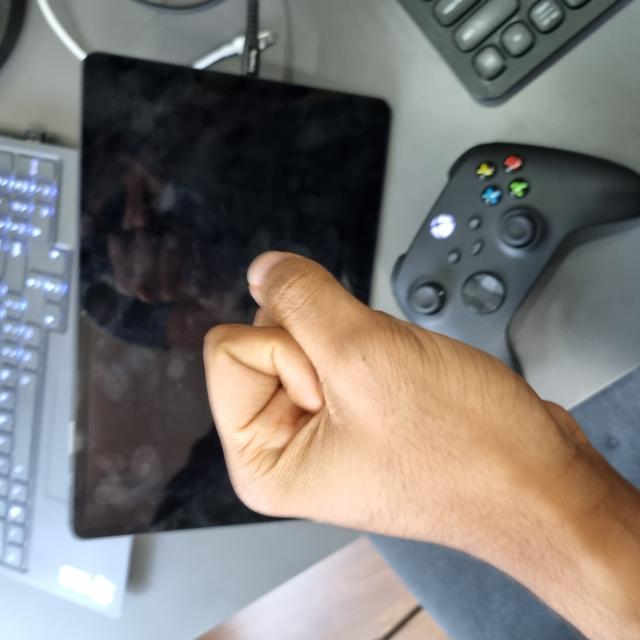Rock: (0, 183, 385, 561)
